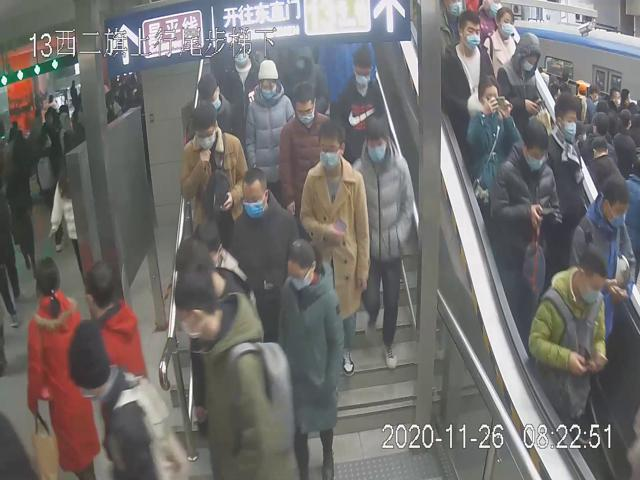person: (298, 118, 370, 375), (273, 237, 346, 478), (353, 117, 415, 371), (525, 248, 611, 425), (489, 116, 562, 294), (566, 172, 636, 356), (229, 164, 300, 333), (182, 100, 248, 248), (461, 73, 522, 204), (279, 78, 335, 212), (245, 58, 294, 200), (442, 9, 493, 132), (332, 45, 383, 159), (187, 71, 241, 147)
